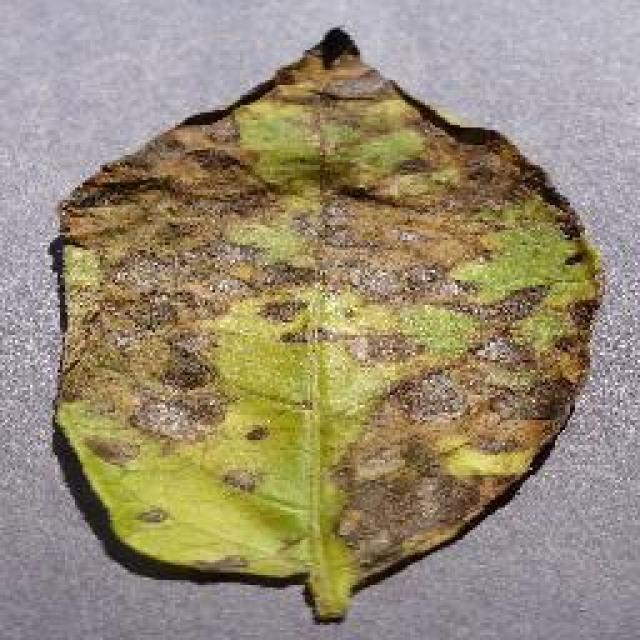Pot_Early_blight: (68, 98, 308, 452), (333, 297, 598, 545), (305, 39, 540, 300)
